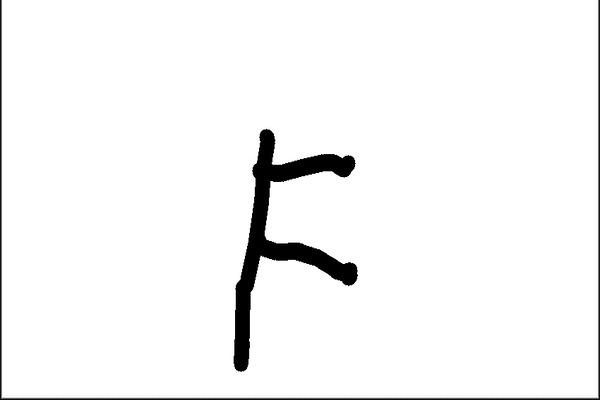F: (226, 123, 364, 373)
